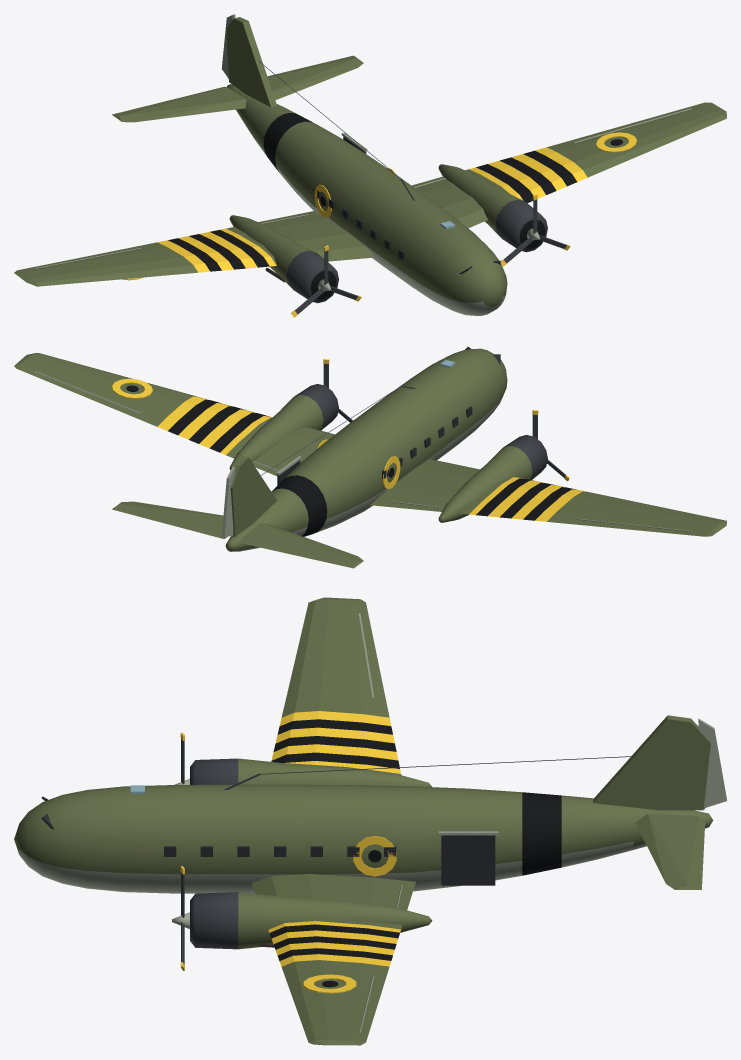
Rendered from transport_plane.glb.
3 renders of one model, top to bottom at view 1: azimuth 30°, elevation 25°; view 2: azimuth 150°, elevation 25°; view 3: azimuth 270°, elevation 25°, orthographic. The views are drawn at different scales.
Visible parts, largest first — view 1: LOD0, PropRight_mesh, PropLeft_mesh; view 2: LOD0; view 3: LOD0.
Part boxes in pixels (x1,y1,x2,y2): LOD0: (14,14,726,315); PropRight_mesh: (291,245,361,317); PropLeft_mesh: (500,194,570,266); LOD0: (14,347,726,568); LOD0: (14,597,726,1045).
Bounding box in the file's own units: 29.5 × 5.28 × 19.85.
Materials: 1 (1 with a texture image).
